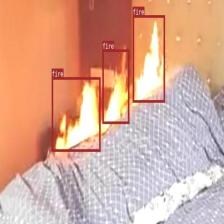fire: (52, 77, 100, 151), (132, 15, 165, 102), (102, 49, 129, 124)
